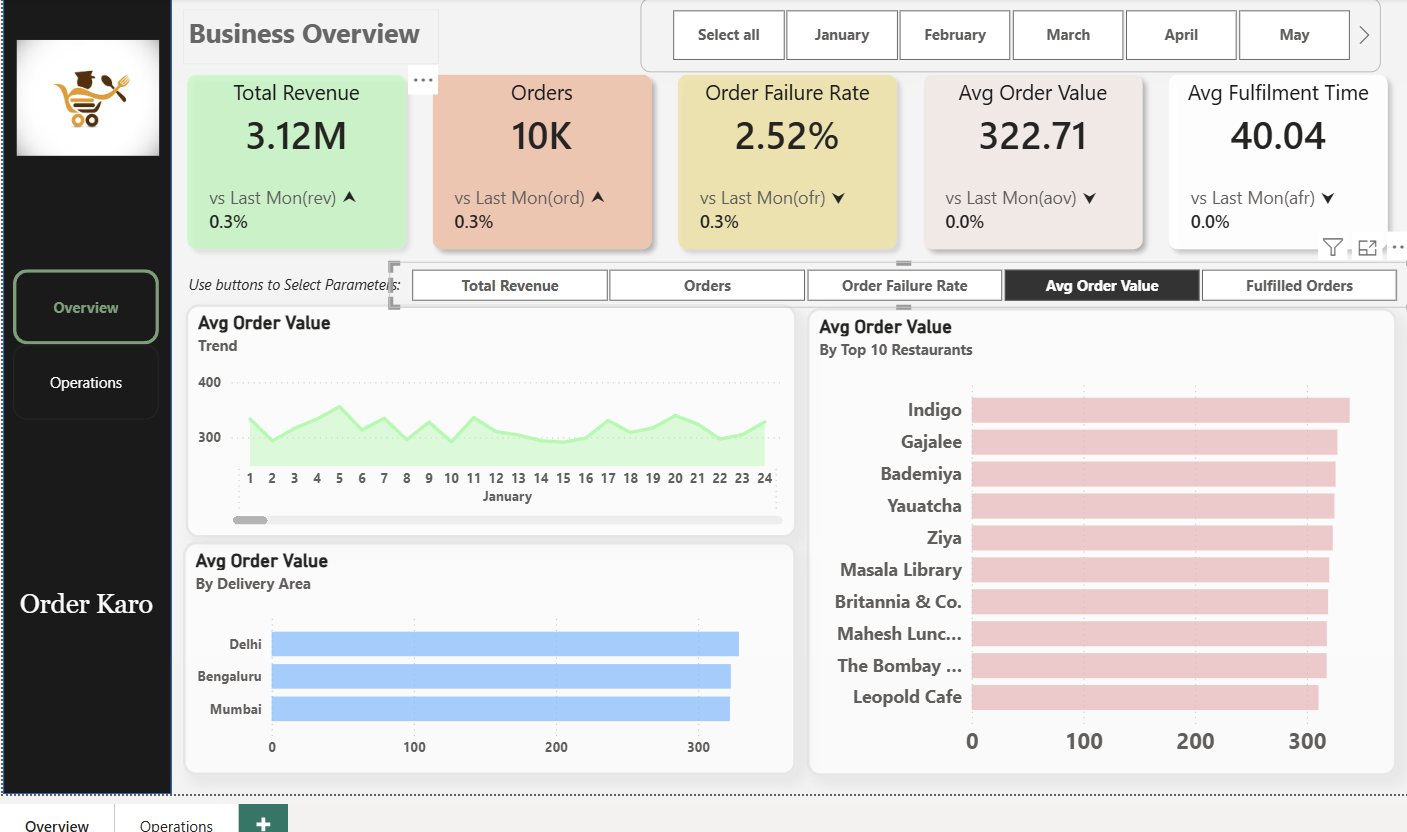

Layout of this report page (visuals, bound fields, positions):
{"tool":"powerbi","page":{"name":"Overview","canvas":[1280,720],"ordinal":0},"visuals":[{"type":"shape","box":[0,0,152.6,720.2],"z":0,"group":"g1"},{"type":"group","id":"g1","title":"Group 1","box":[0,0,152.6,720.2],"z":0},{"type":"cardVisual","fields":{"Data":["fooddelivery orders.Total Revenue","fooddelivery orders.Total Orders","fooddelivery orders.Order Failure Rate","fooddelivery orders.Avg Order Value","fooddelivery deliveries.Avg Fulfilment Time"]},"box":[142.5,45.2,1137.4,206.9],"z":1000},{"type":"lineChart","fields":{"Category":["DateTable.Date.Variation.Date Hierarchy.Month","DateTable.Date.Variation.Date Hierarchy.Day"],"Y":["fooddelivery orders.Total Revenue"]},"box":[164.7,277.2,553,211.5],"z":2000},{"type":"slicer","fields":{"Values":["Parameters:.Parameters:"]},"box":[349.4,238.6,930.5,41.8],"z":3000},{"type":"barChart","fields":{"Category":["fooddelivery restaurants.restaurant_name"],"Y":["fooddelivery orders.Total Revenue"]},"box":[727,280.4,533.7,422.9],"z":4000},{"type":"barChart","fields":{"Category":["fooddelivery restaurants.city"],"Y":["fooddelivery orders.Total Revenue"]},"box":[162.8,491.8,554,211.4],"z":5000},{"type":"textbox","box":[162.8,245.4,211.4,28.3],"z":6000},{"type":"textbox","box":[162.7,10.3,231.8,49.7],"z":7000},{"type":"image","box":[12.4,20.4,128.9,140.2],"z":8000},{"type":"pageNavigator","box":[9,245.4,132.3,137.9],"z":8000,"group":"g1"},{"type":"textbox","box":[10.2,529.1,152.6,99.5],"z":9000},{"type":"slicer","fields":{"Values":["DateTable.Date.Variation.Date Hierarchy.Month"]},"box":[577.1,0,669.5,66.9],"z":9001}]}

Visuals, with their boxes on the page's 1280x720 design canvas (x1, y1, x2, y2). These are canvas units, not pixel positions in the 1407x832 screenshot, which may show the page scaled, cropped or inside an application window:
shape: [left=0, top=0, right=153, bottom=720]
"Group 1" group: [left=0, top=0, right=153, bottom=720]
cardVisual - fooddelivery orders.Total Revenue x fooddelivery orders.Total Orders: [left=142, top=45, right=1280, bottom=252]
lineChart - DateTable.Date.Variation.Date Hierarchy.Month x DateTable.Date.Variation.Date Hierarchy.Day: [left=165, top=277, right=718, bottom=489]
slicer - Parameters:.Parameters:: [left=349, top=239, right=1280, bottom=280]
barChart - fooddelivery restaurants.restaurant_name x fooddelivery orders.Total Revenue: [left=727, top=280, right=1261, bottom=703]
barChart - fooddelivery restaurants.city x fooddelivery orders.Total Revenue: [left=163, top=492, right=717, bottom=703]
textbox: [left=163, top=245, right=374, bottom=274]
textbox: [left=163, top=10, right=394, bottom=60]
image: [left=12, top=20, right=141, bottom=161]
pageNavigator: [left=9, top=245, right=141, bottom=383]
textbox: [left=10, top=529, right=163, bottom=629]
slicer - DateTable.Date.Variation.Date Hierarchy.Month: [left=577, top=0, right=1247, bottom=67]
